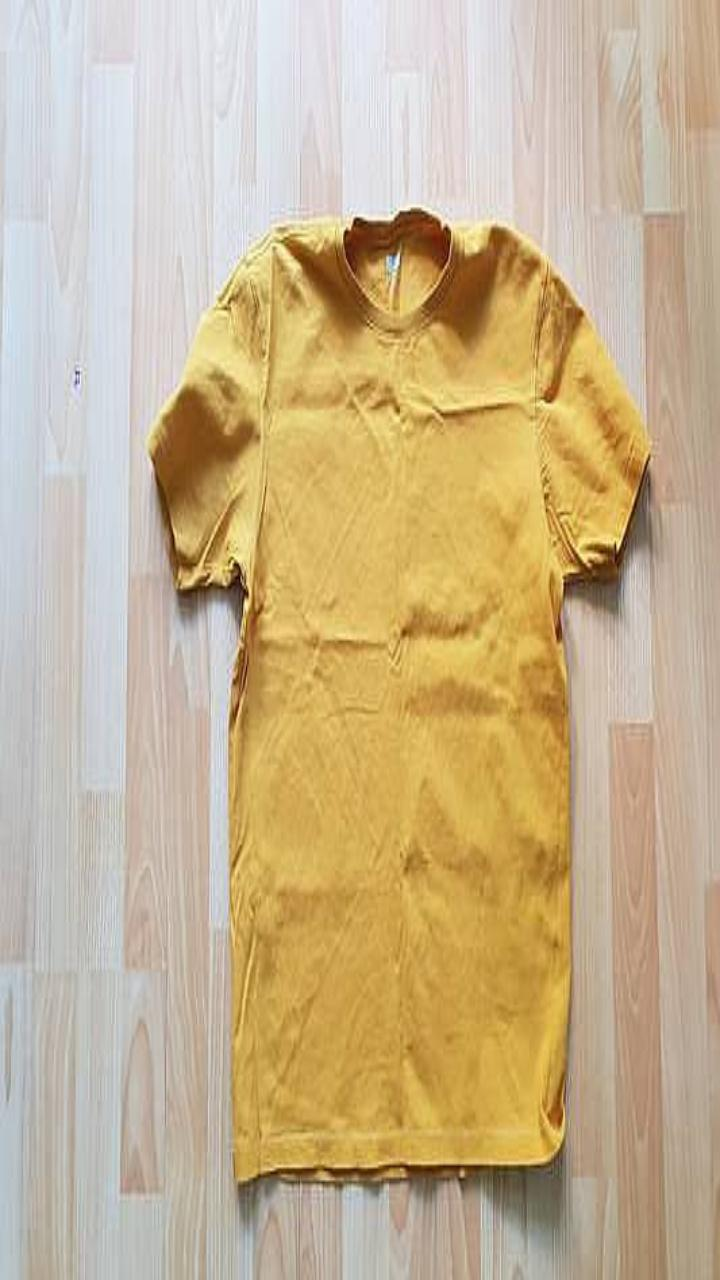T-Shirt: (147, 207, 650, 1181)
